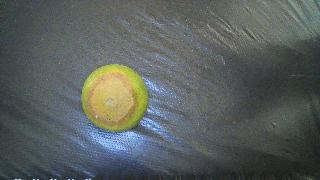DESECHO: (81, 64, 148, 132)
